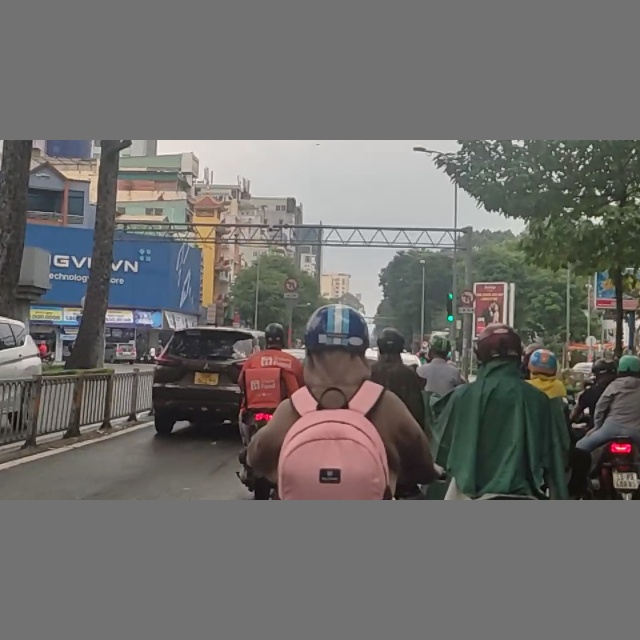P.124c: (283, 276, 300, 293), (459, 291, 475, 306)
